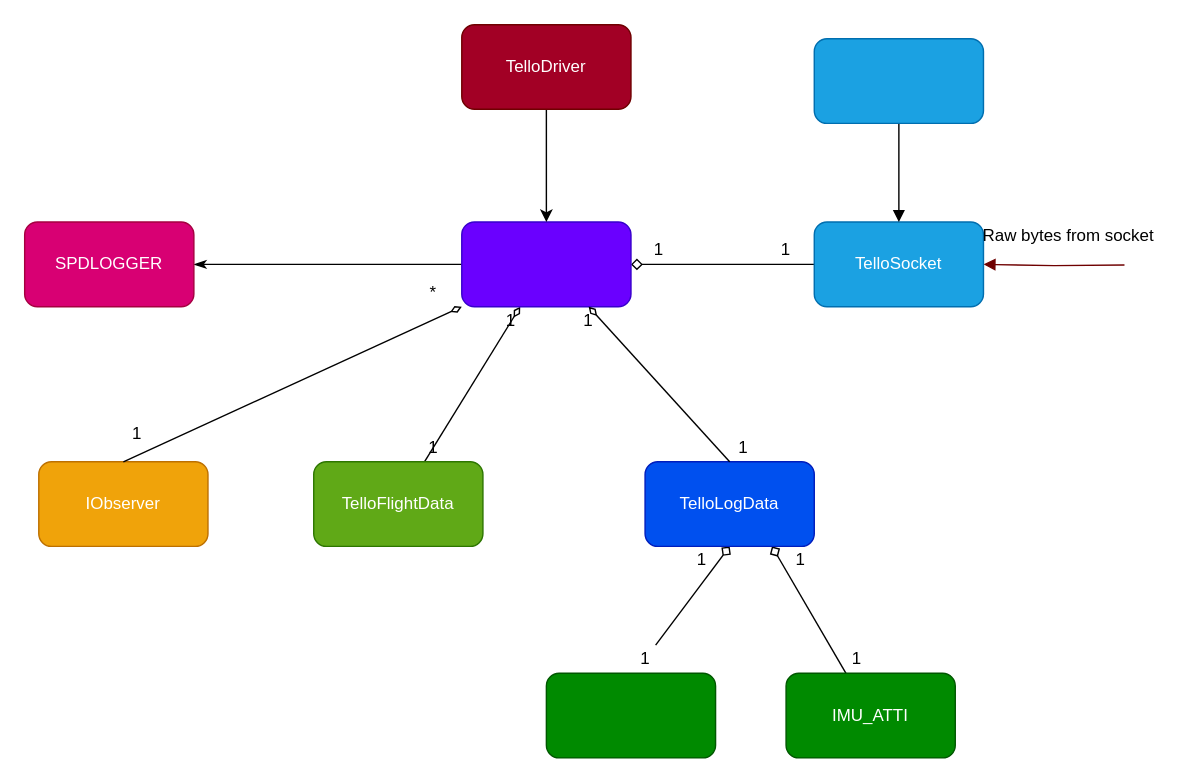
This 1191x783 diagram has some shape labels left out. Each missing label, with the centre of its shape:
<<IReceiver>>: the point at 898,80
MVO: the point at 630,715
TelloTelemetry: the point at 545,264
